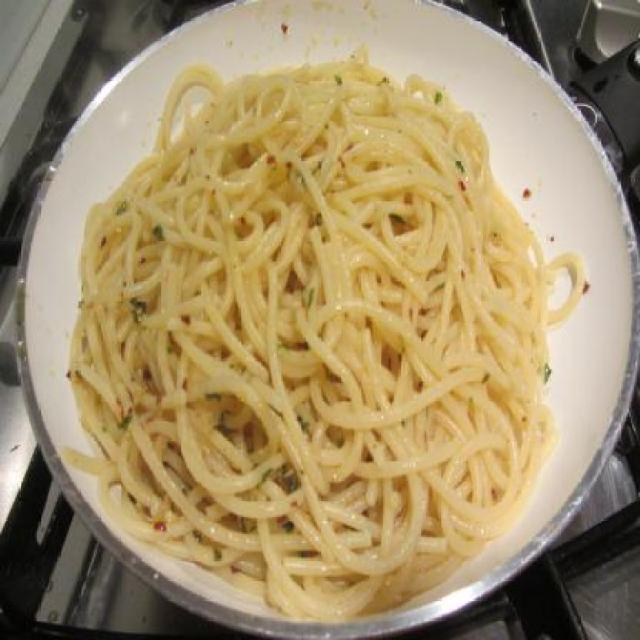Oil pasta: (73, 47, 619, 633)
